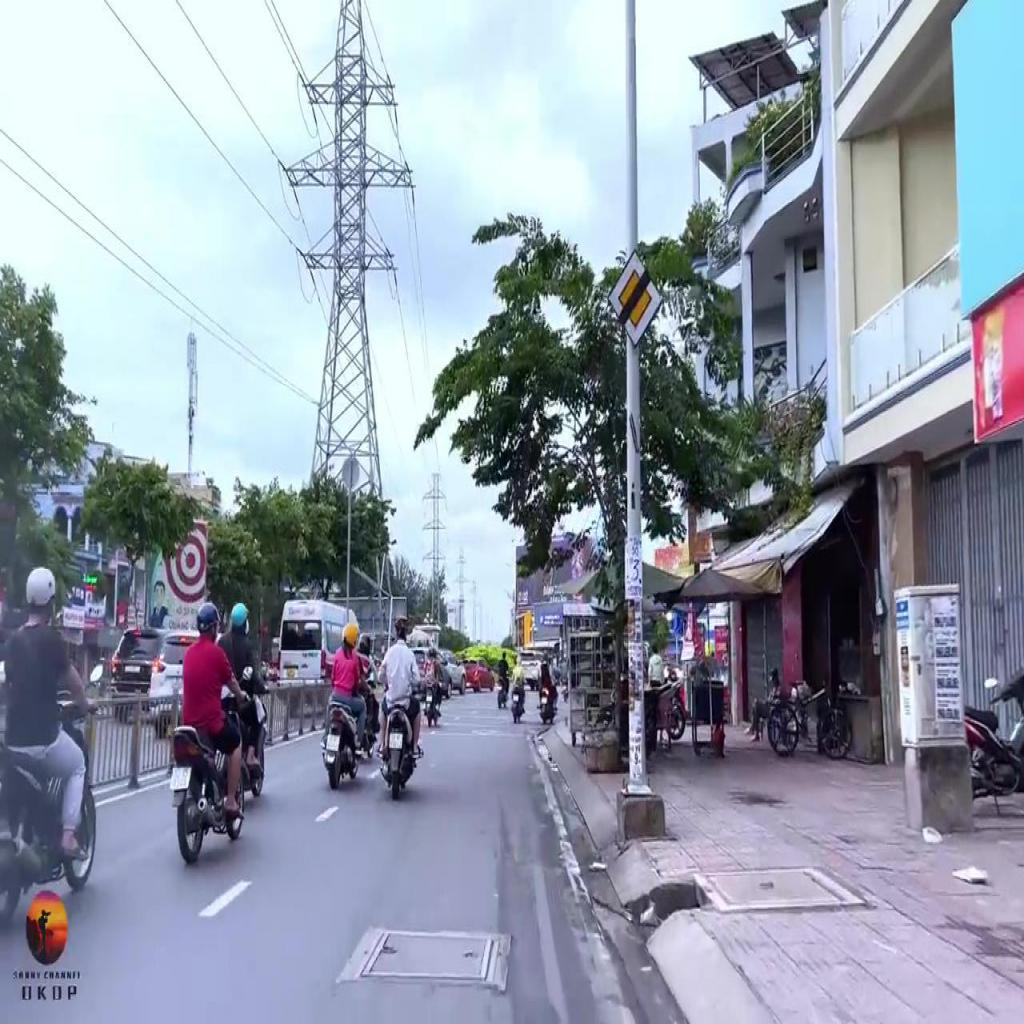duong_het_uu_tien: (607, 247, 664, 347)
